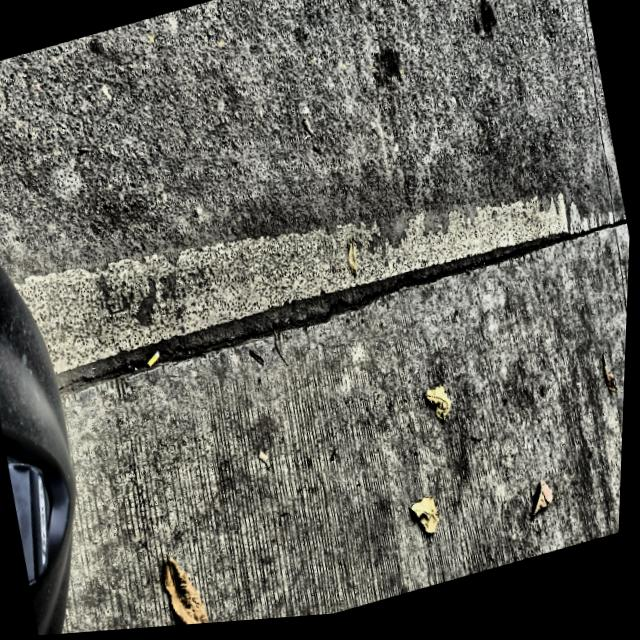no_or_faded_road_markings: (41, 194, 568, 355)
